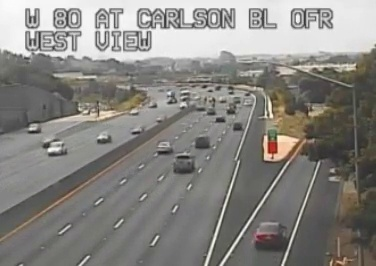car: (255, 222, 284, 248), (173, 154, 193, 173), (195, 136, 209, 149), (156, 142, 172, 153)
